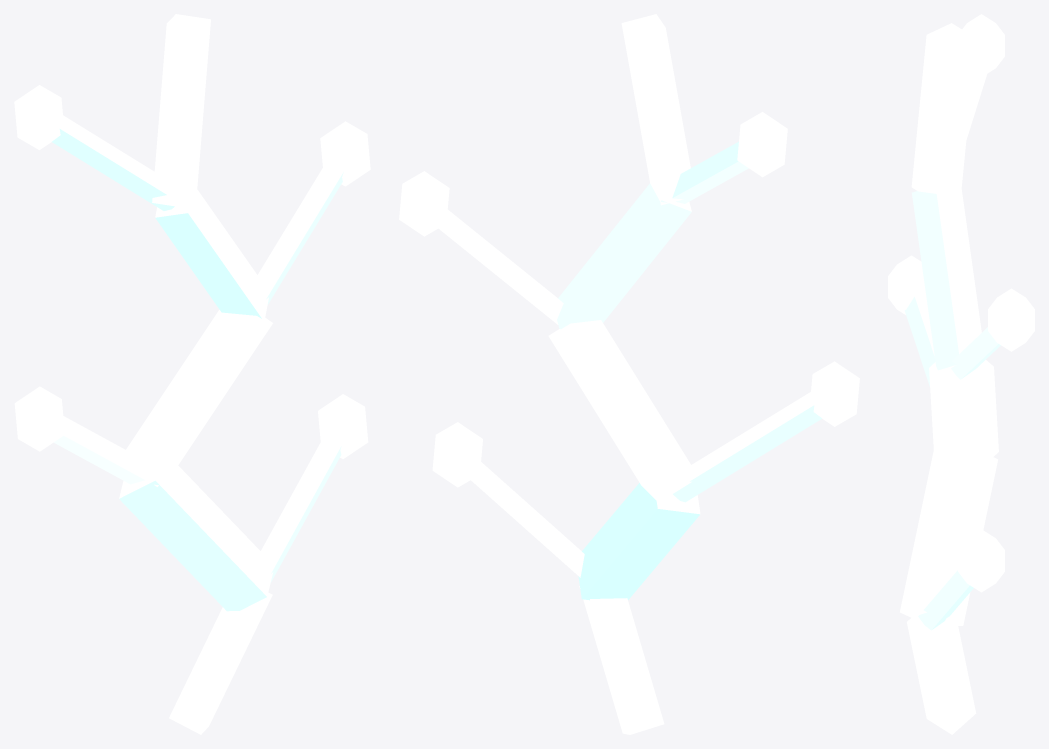
The model's file is lightning_bolt.glb.
3 renders of one model, left to right at view 1: azimuth 30°, elevation 25°; view 2: azimuth 150°, elevation 25°; view 3: azimuth 270°, elevation 25°, orthographic. The views are drawn at different scales.
Visible parts, largest first — view 1: BoltSegment_1, BoltSegment_2, BoltSegment_4, BoltSegment_3, BoltSegment_0, LightningBranch_2, LightningBranch_3, LightningBranch_0, LightningBranch_1, BranchSpark_1, BranchSpark_3, BranchSpark_0 (+1 smaller); view 2: BoltSegment_2, BoltSegment_1, BoltSegment_3, BoltSegment_4, BoltSegment_0, LightningBranch_1, LightningBranch_2, LightningBranch_0, BranchSpark_3, BranchSpark_0, BranchSpark_1, BranchSpark_2 (+1 smaller); view 3: BoltSegment_1, BoltSegment_3, BoltSegment_4, BoltSegment_2, BoltSegment_0, BranchSpark_0, BranchSpark_2, BranchSpark_1, BranchSpark_3, LightningBranch_0, LightningBranch_1, LightningBranch_2 (+1 smaller).
Boxes of the visible parts, x1,y1,x2,y2 form: BoltSegment_1: [119, 465, 273, 611]; BoltSegment_2: [126, 310, 272, 486]; BoltSegment_4: [152, 14, 210, 207]; BoltSegment_3: [155, 189, 268, 319]; BoltSegment_0: [169, 592, 272, 734]; LightningBranch_2: [257, 161, 343, 304]; LightningBranch_3: [52, 115, 174, 210]; LightningBranch_0: [261, 435, 341, 582]; LightningBranch_1: [54, 416, 145, 484]; BranchSpark_1: [14, 386, 64, 451]; BranchSpark_3: [14, 85, 63, 149]; BranchSpark_0: [318, 394, 368, 458]; BoltSegment_2: [548, 320, 695, 502]; BoltSegment_1: [578, 483, 700, 600]; BoltSegment_3: [557, 183, 691, 328]; BoltSegment_4: [621, 14, 690, 205]; BoltSegment_0: [579, 586, 664, 734]; LightningBranch_1: [673, 392, 821, 502]; LightningBranch_2: [436, 208, 563, 324]; LightningBranch_0: [468, 461, 584, 577]; BranchSpark_3: [737, 112, 787, 177]; BranchSpark_0: [432, 422, 482, 487]; BranchSpark_1: [810, 361, 859, 426]; BranchSpark_2: [399, 171, 449, 236]; BoltSegment_1: [900, 450, 997, 625]; BoltSegment_3: [912, 188, 985, 370]; BoltSegment_4: [911, 23, 976, 194]; BoltSegment_2: [929, 360, 998, 471]; BoltSegment_0: [907, 616, 976, 734]; BranchSpark_0: [958, 529, 1004, 592]; BranchSpark_2: [988, 288, 1034, 351]; BranchSpark_1: [888, 255, 926, 314]; BranchSpark_3: [962, 14, 1004, 73]; LightningBranch_0: [918, 570, 973, 630]; LightningBranch_1: [904, 296, 935, 386]; LightningBranch_2: [951, 327, 1000, 379].
Bounding box in the file's own units: 0.8984 × 1.53 × 0.2936.
